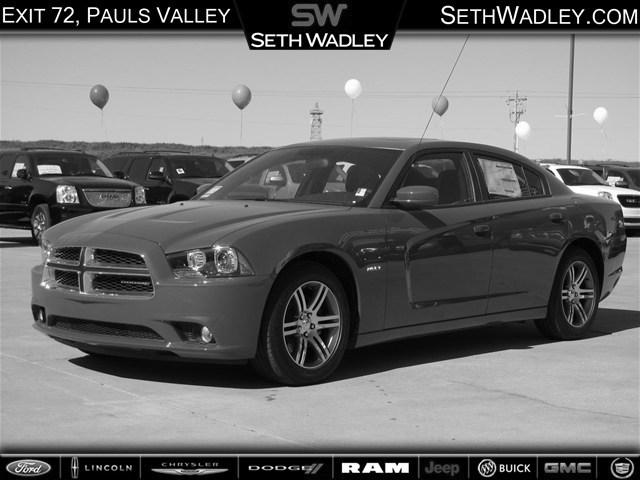car: (27, 134, 632, 393)
